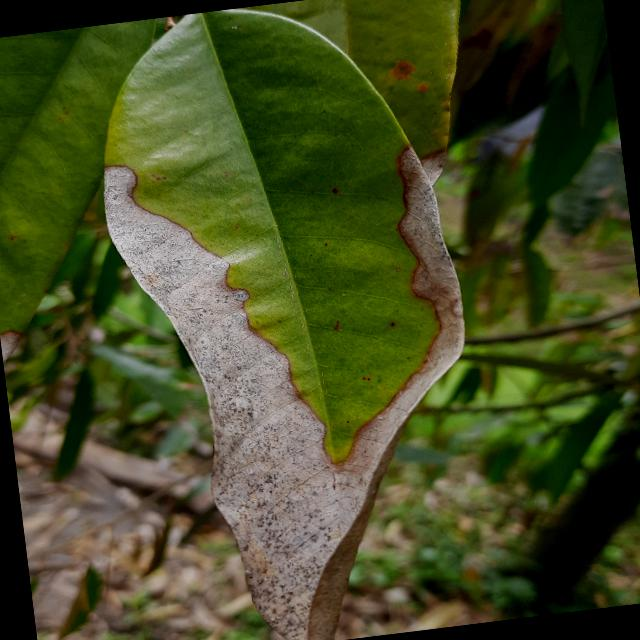Leaf Blight: (74, 0, 547, 639)
